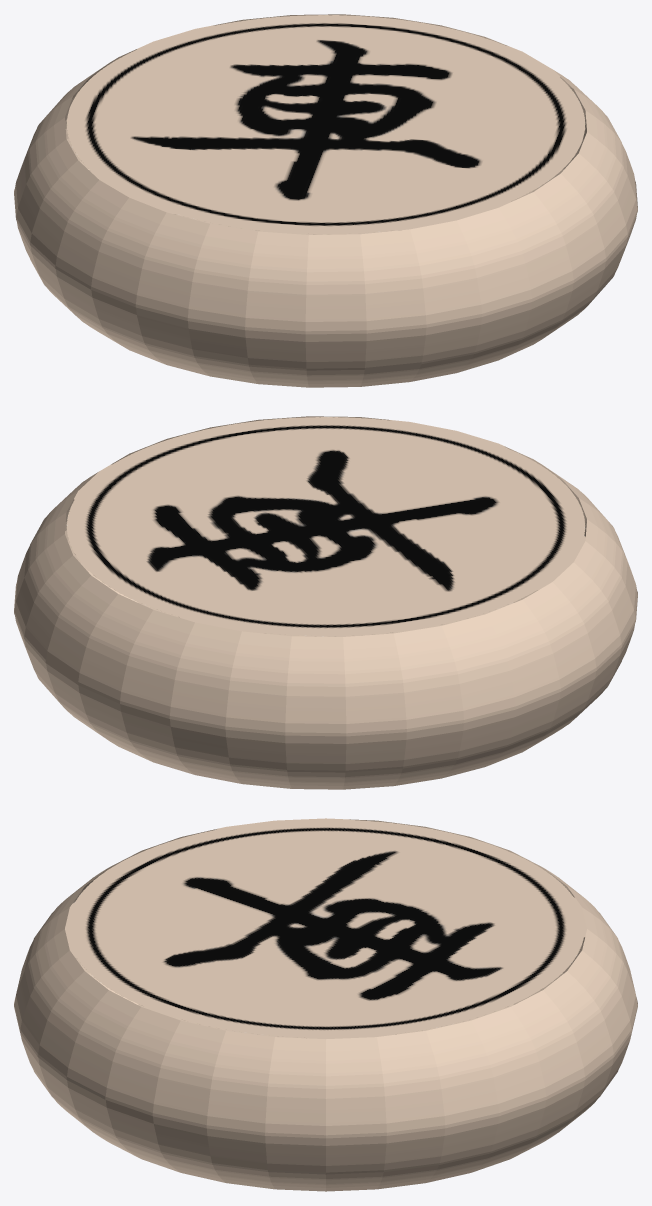
The model's file is black_chariot.fbx.
3 views of the same model, one above another, from view 1: azimuth 30°, elevation 25°; view 2: azimuth 150°, elevation 25°; view 3: azimuth 270°, elevation 25° (orthographic).
Parts seen in each view (by area): view 1: Black Chariot; view 2: Black Chariot; view 3: Black Chariot.
Part boxes in pixels (box(x1,y1,x2,y2)): Black Chariot: box(14, 14, 637, 387); Black Chariot: box(14, 416, 637, 789); Black Chariot: box(14, 818, 637, 1191).
Bounding box in the file's own units: 245 × 66.11 × 245.
2 materials, 1 textured.
